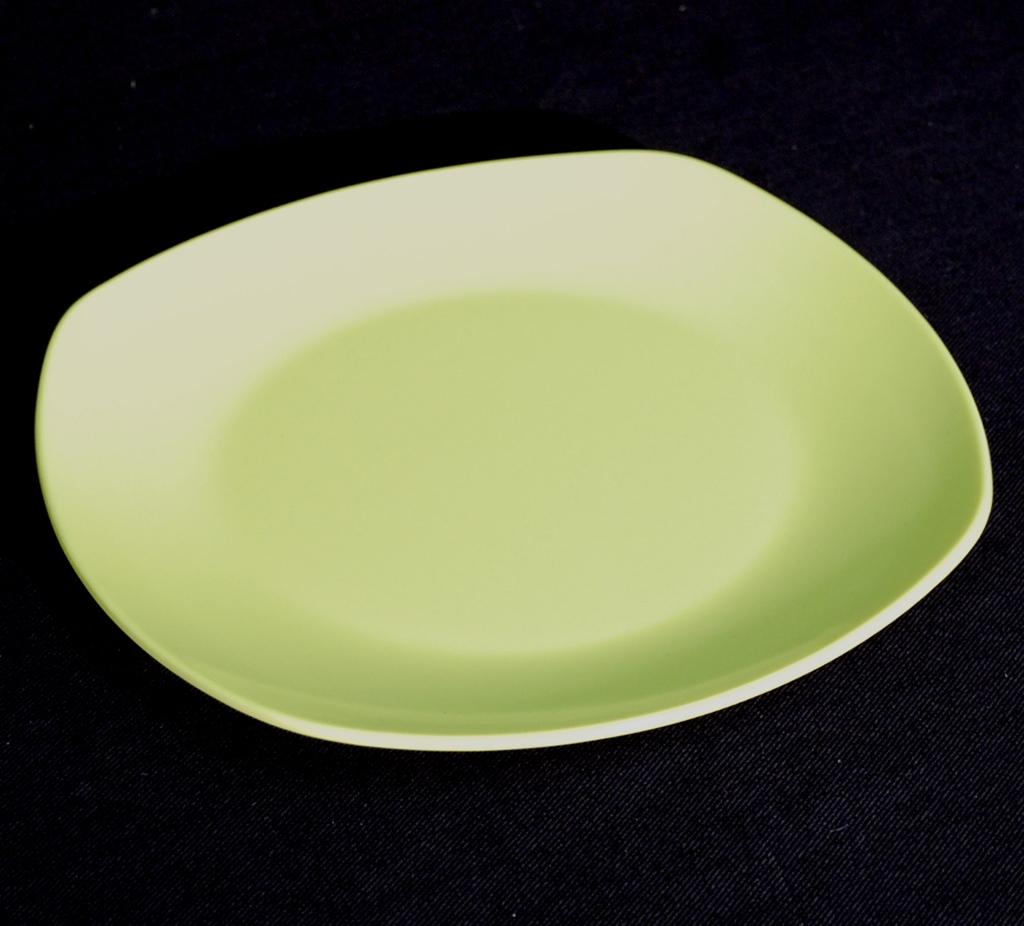plate: (53, 126, 982, 707)
